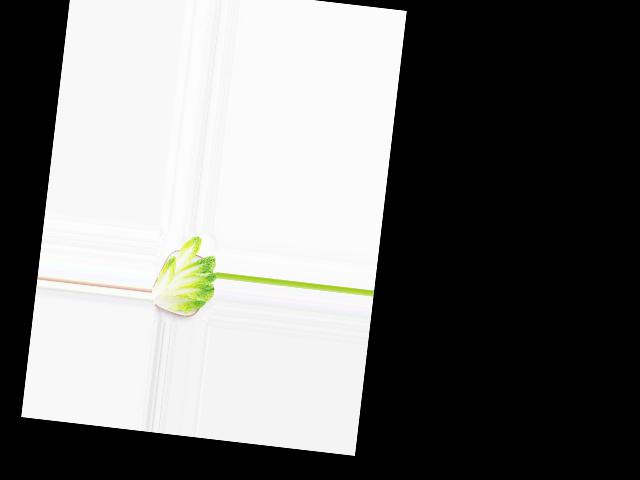lettuce: (151, 230, 222, 320)
